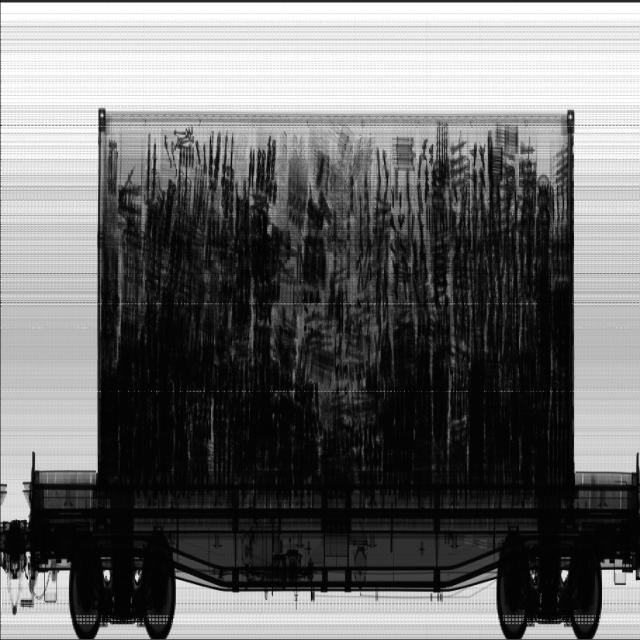auto parts: (99, 128, 568, 474)
